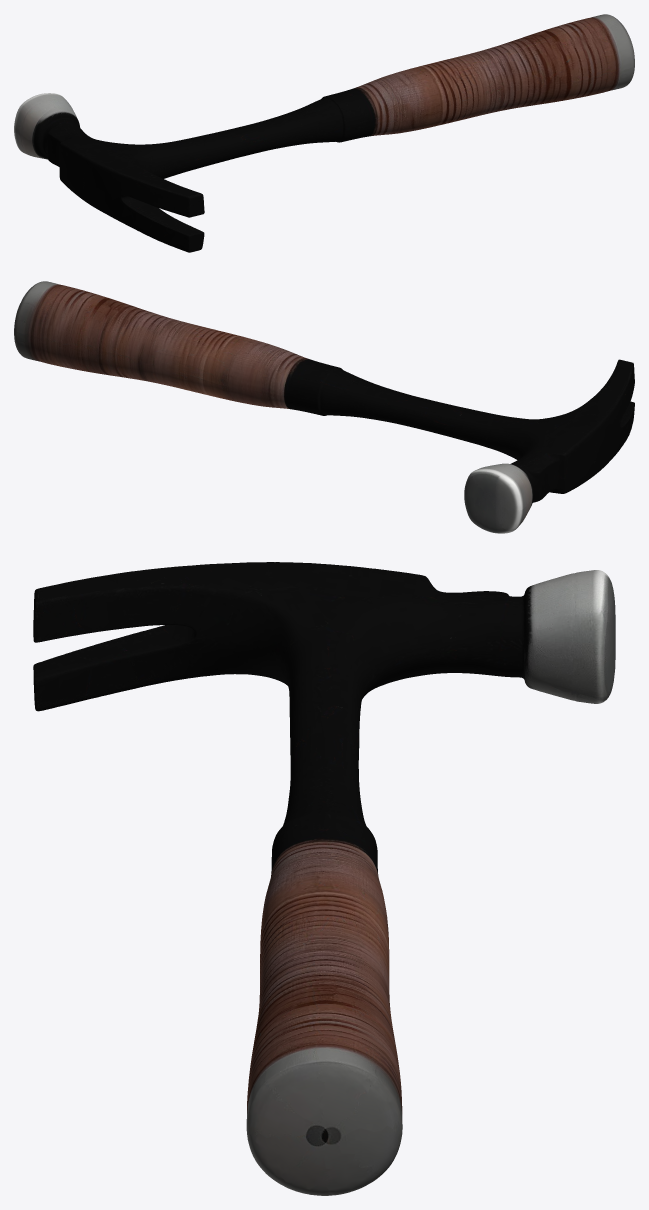
File: hammer.glb
The picture shows the model from 3 angles, top to bottom: view 1: azimuth 30°, elevation 25°; view 2: azimuth 150°, elevation 25°; view 3: azimuth 270°, elevation 25°; orthographic projection. The views are drawn at different scales.
Bounding box in the file's own units: 1.9 × 0.2305 × 0.8877.
Materials: 1 (1 with a texture image).
